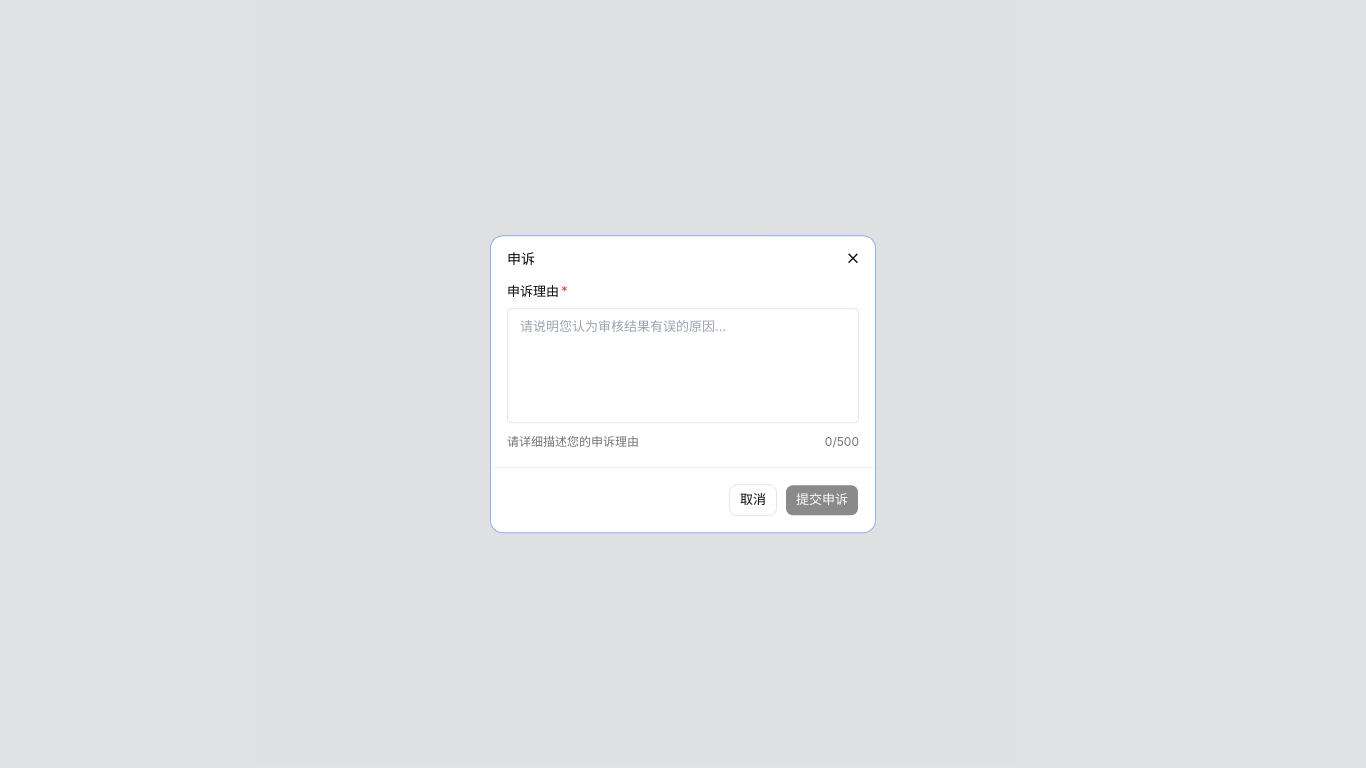
Test case: AppealDialog › shows character counter
Type "test reason" into the text box with placeholder "请说明您认为审核结果有误的原因..." at (683, 366), box [507,308,859,423]
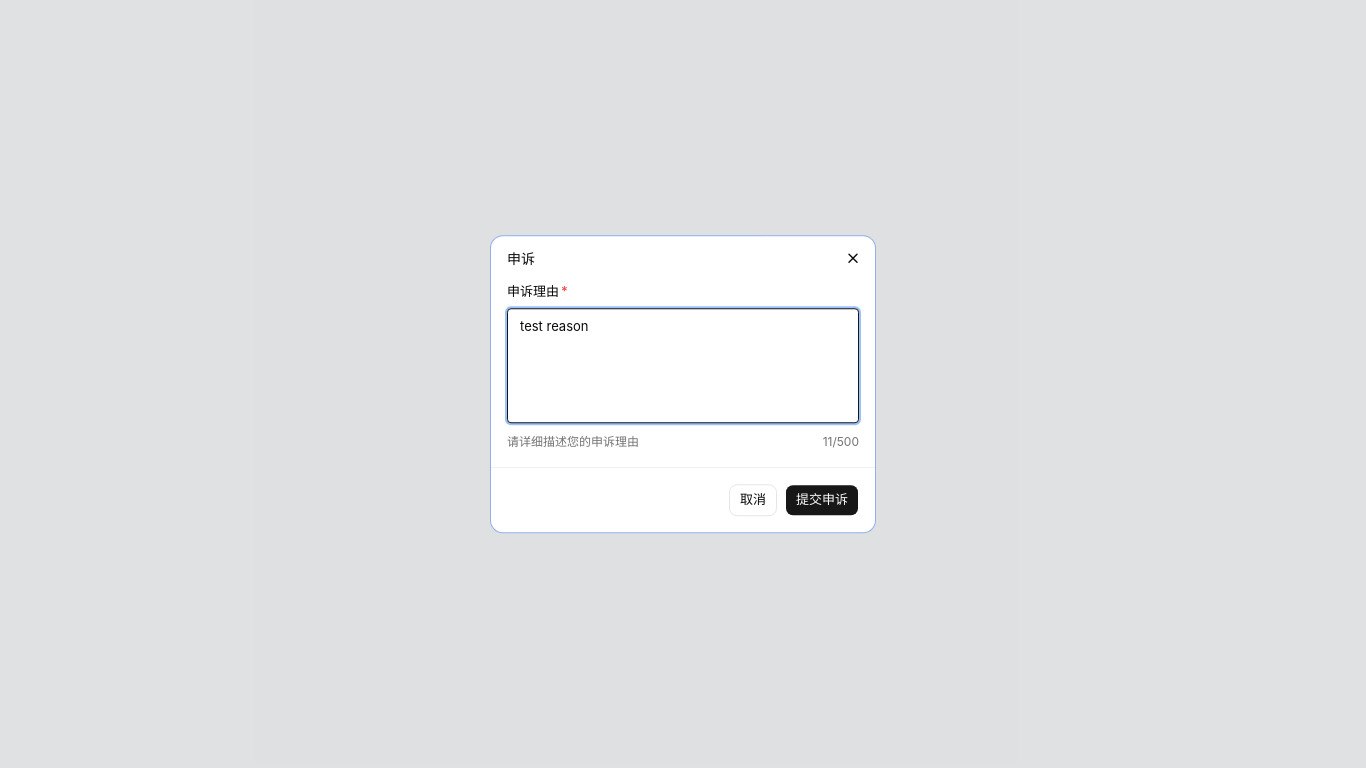
Result: the text "11/500" is shown at [823,433,859,451]
